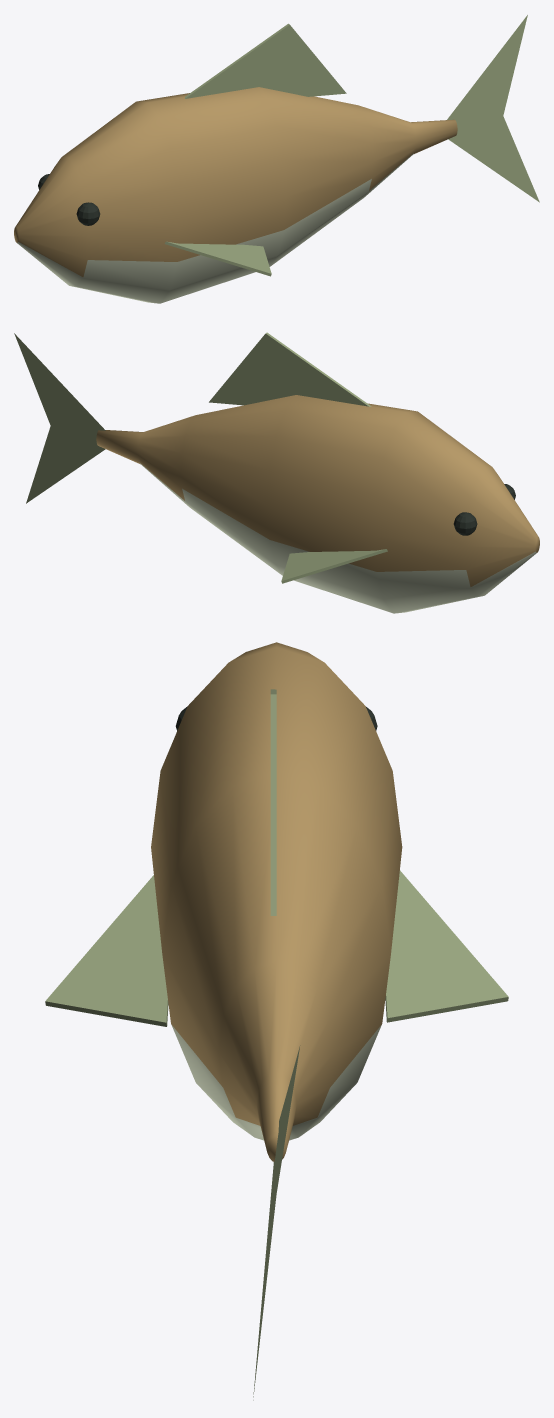
File: copper_perch.glb
3 renders of one model, top to bottom at view 1: azimuth 30°, elevation 25°; view 2: azimuth 150°, elevation 25°; view 3: azimuth 270°, elevation 25°, orthographic. The views are drawn at different scales.
Parts seen in each view (by area): view 1: copper_perch_body, copper_perch_forked_tail, copper_perch_dorsal, copper_perch_pectoral, Sphere.002; view 2: copper_perch_body, copper_perch_dorsal, copper_perch_forked_tail, copper_perch_pectoral.001, Sphere.003; view 3: copper_perch_body, copper_perch_pectoral.001, copper_perch_pectoral, copper_perch_forked_tail, copper_perch_dorsal.
Boxes of the visible parts, x1,y1,x2,y2 form: copper_perch_body: (14, 87, 457, 303); copper_perch_forked_tail: (447, 15, 539, 202); copper_perch_dorsal: (185, 23, 346, 98); copper_perch_pectoral: (164, 241, 271, 276); Sphere.002: (76, 202, 100, 225); copper_perch_body: (96, 395, 539, 613); copper_perch_dorsal: (209, 332, 371, 406); copper_perch_forked_tail: (14, 333, 105, 503); copper_perch_pectoral.001: (281, 549, 387, 583); Sphere.003: (453, 512, 477, 535); copper_perch_body: (151, 642, 402, 1161); copper_perch_pectoral.001: (385, 870, 508, 1022); copper_perch_pectoral: (45, 875, 168, 1026); copper_perch_forked_tail: (253, 1045, 300, 1400); copper_perch_dorsal: (270, 689, 276, 915).
Bounding box in the file's own units: 0.4012 × 0.1813 × 0.1556.
